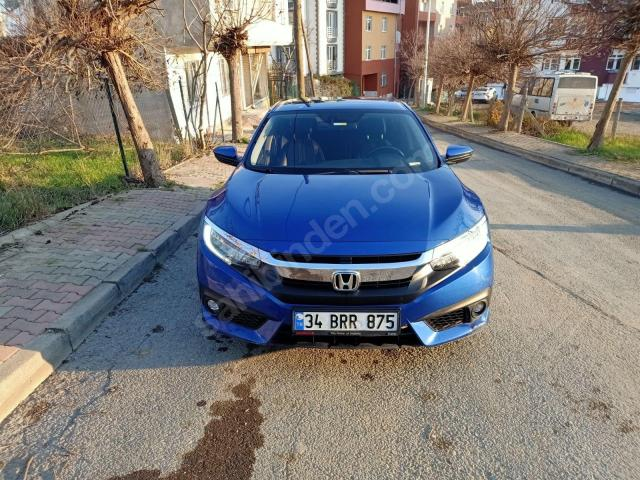plaka: (294, 312, 399, 332)
